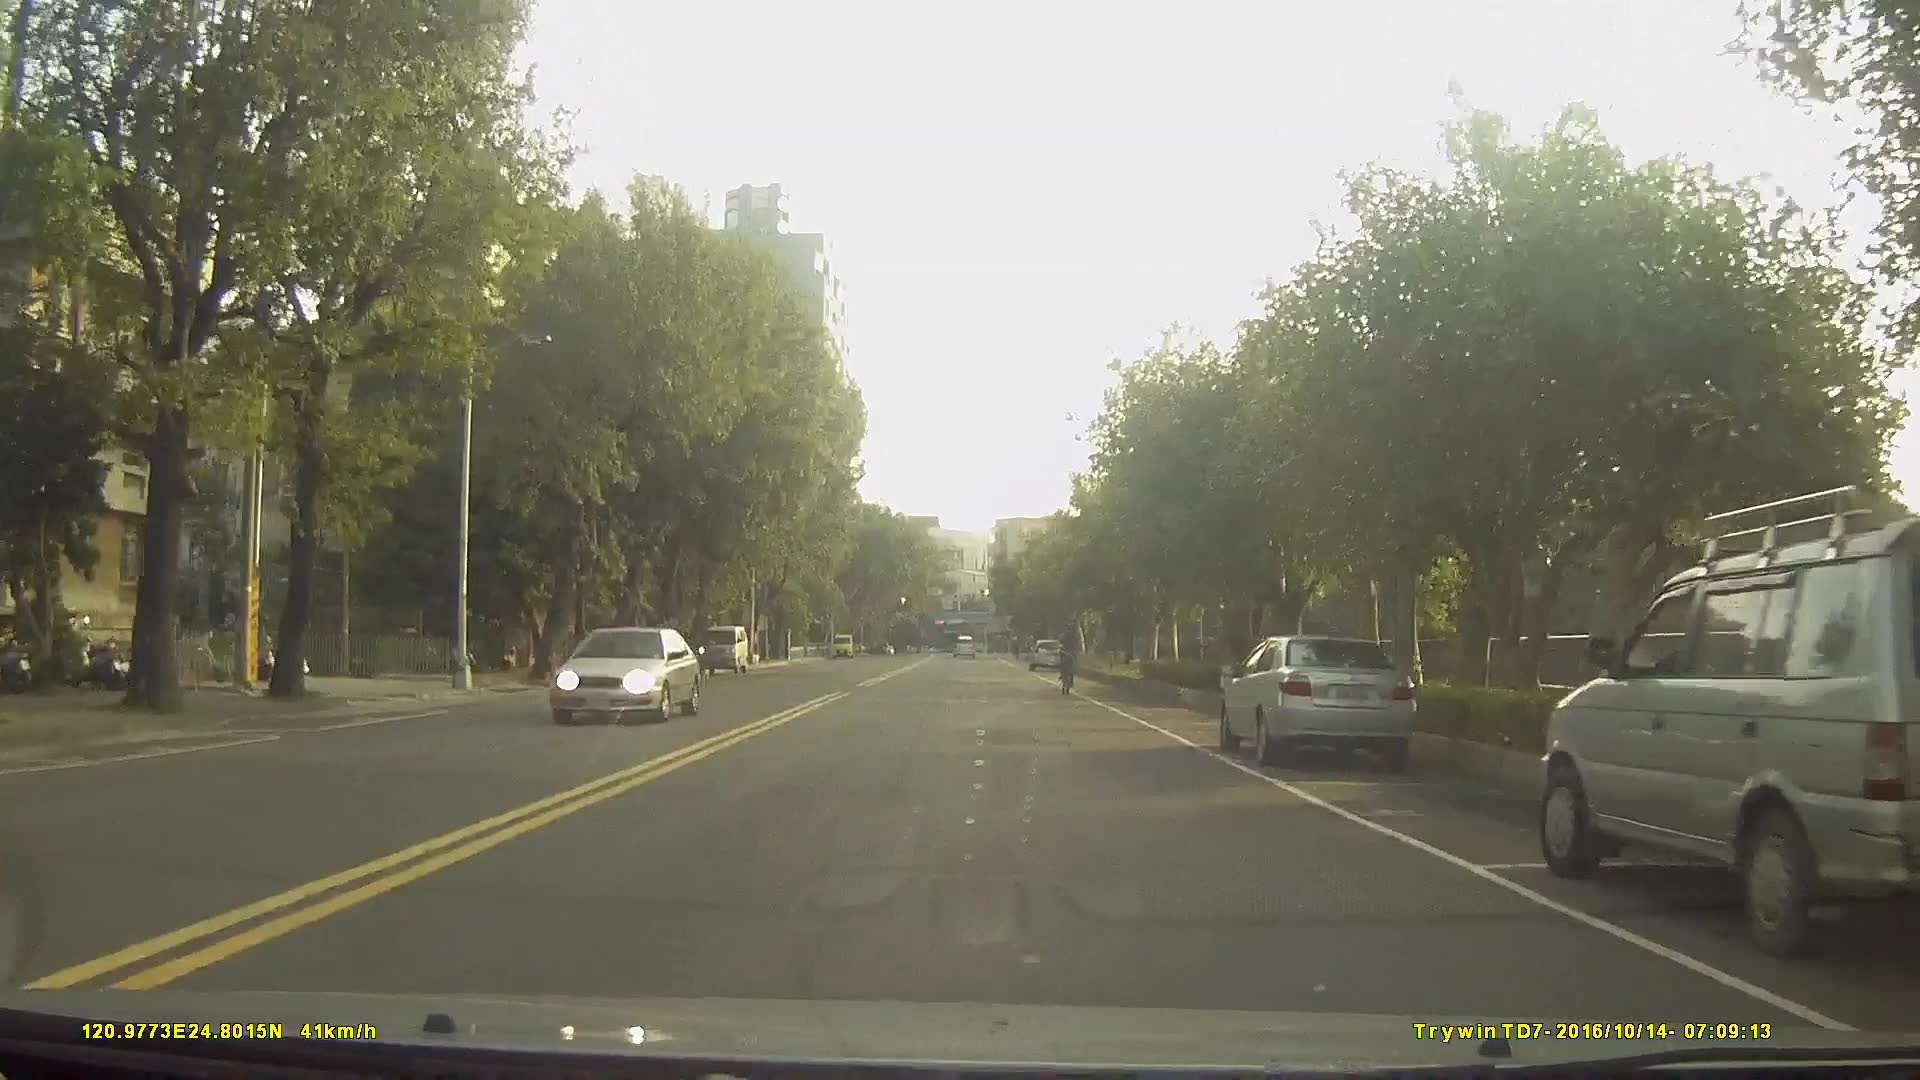rider: (1057, 619, 1084, 703)
vehicle: (1536, 518, 1920, 956), (1218, 636, 1419, 768), (548, 626, 701, 728), (613, 637, 676, 687), (697, 622, 747, 675), (1027, 636, 1066, 673), (951, 635, 978, 663)
